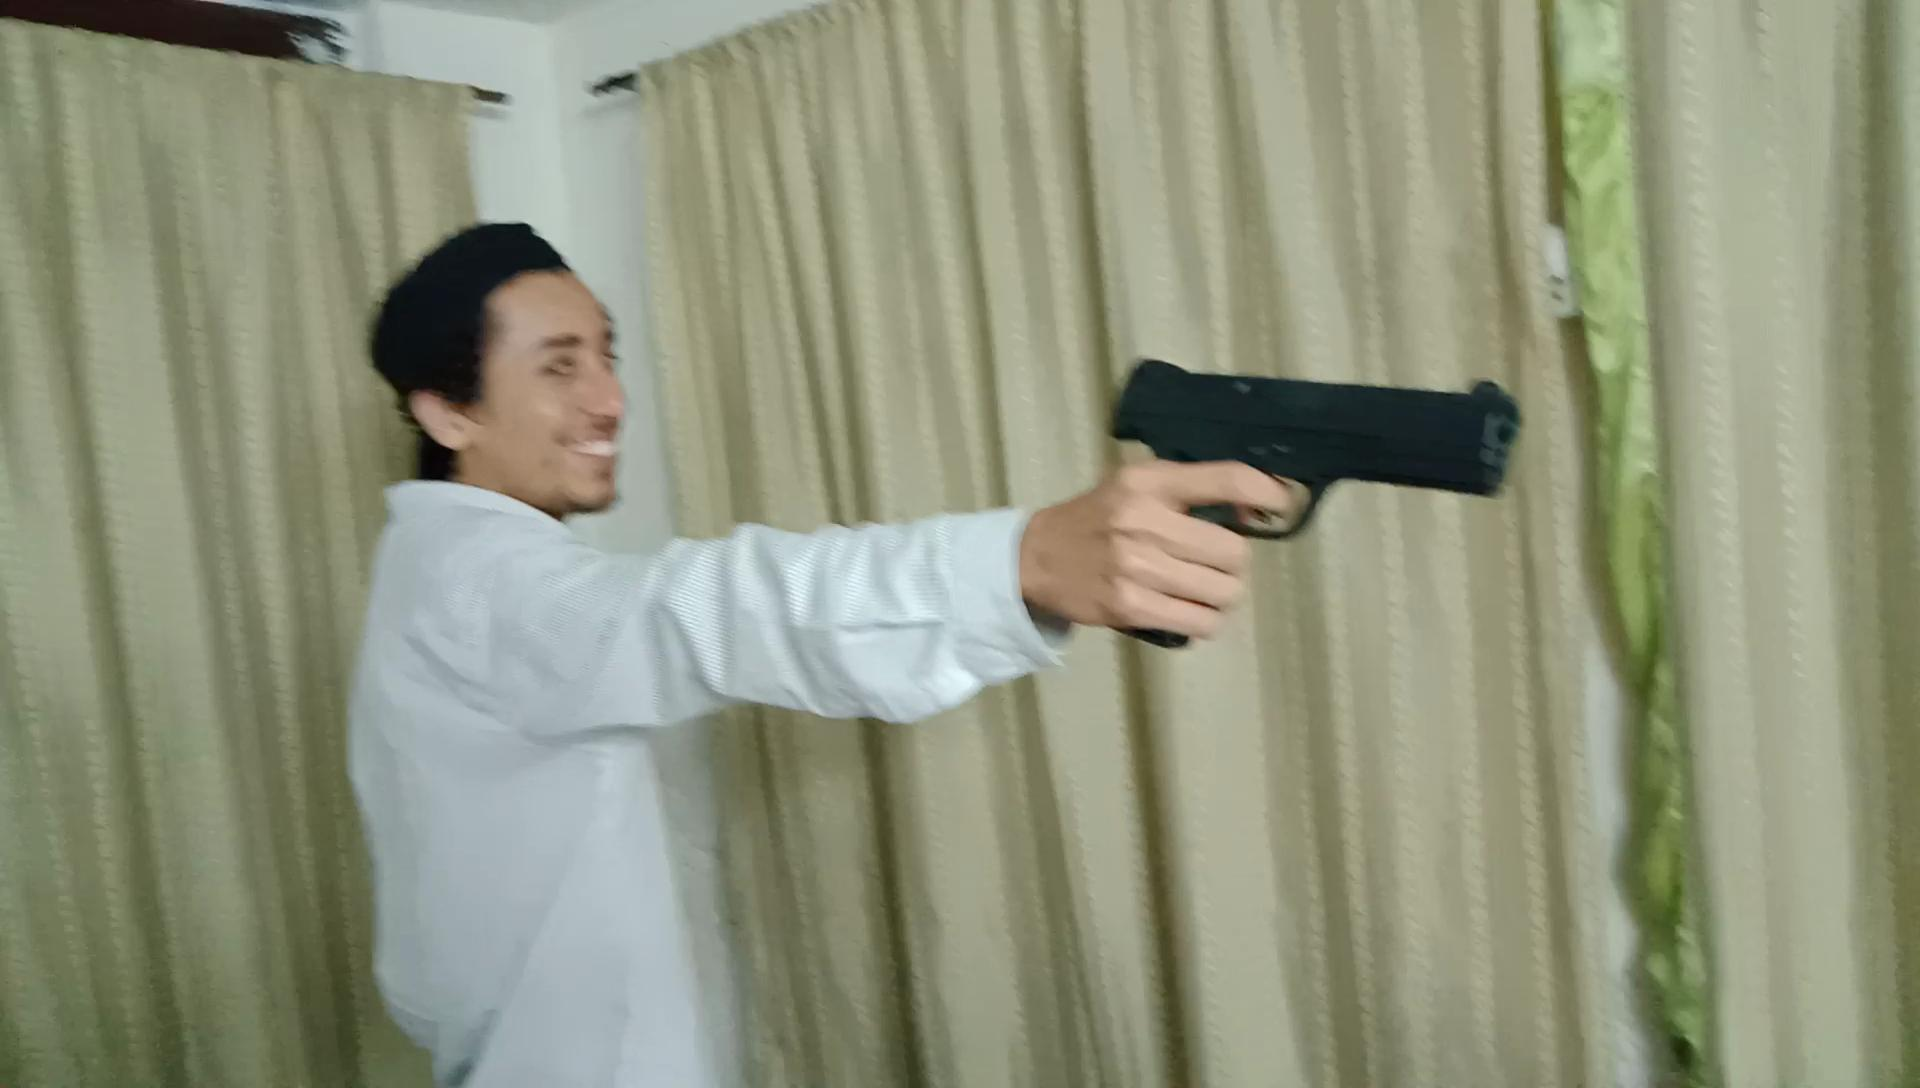criminal: (339, 214, 1536, 1088)
weapon: (1093, 348, 1534, 655)
